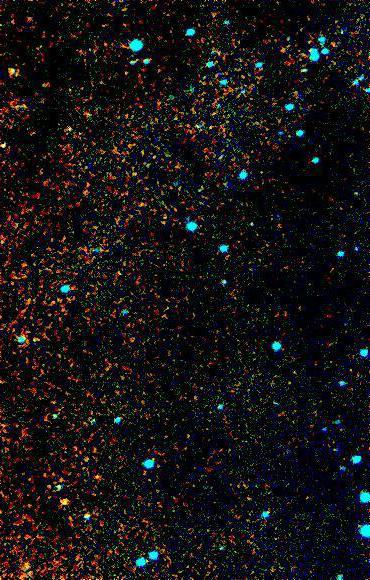star: (53, 479, 83, 509)
